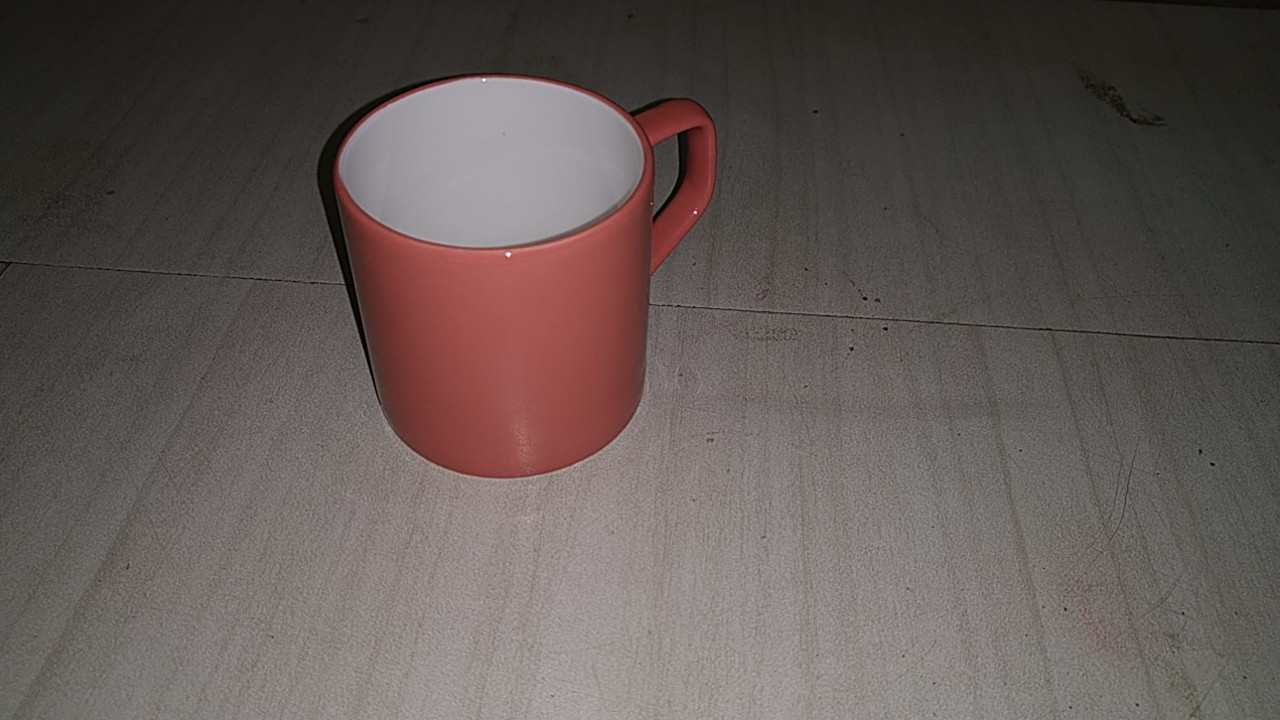cup: (303, 56, 743, 507)
